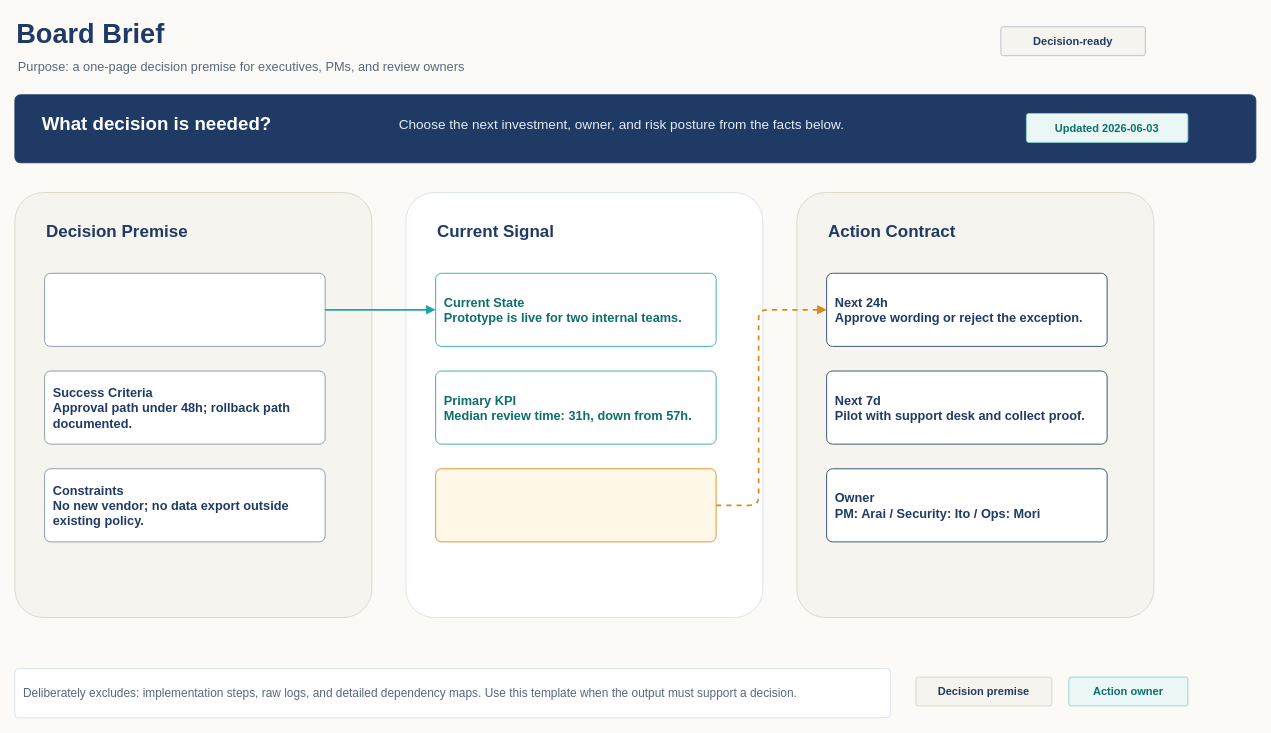
Image size: 1271x733. Some labels were removed from this diagram. The shapes that lost their labels are listed below. From the top down, each one's box as (x1, y1, x2, y2) in pixels, then its label:
(44, 272, 325, 346): Purpose Reduce review latency without increasing operational risk.
(435, 468, 716, 542): Bottleneck Security exception wording needs owner approval.
